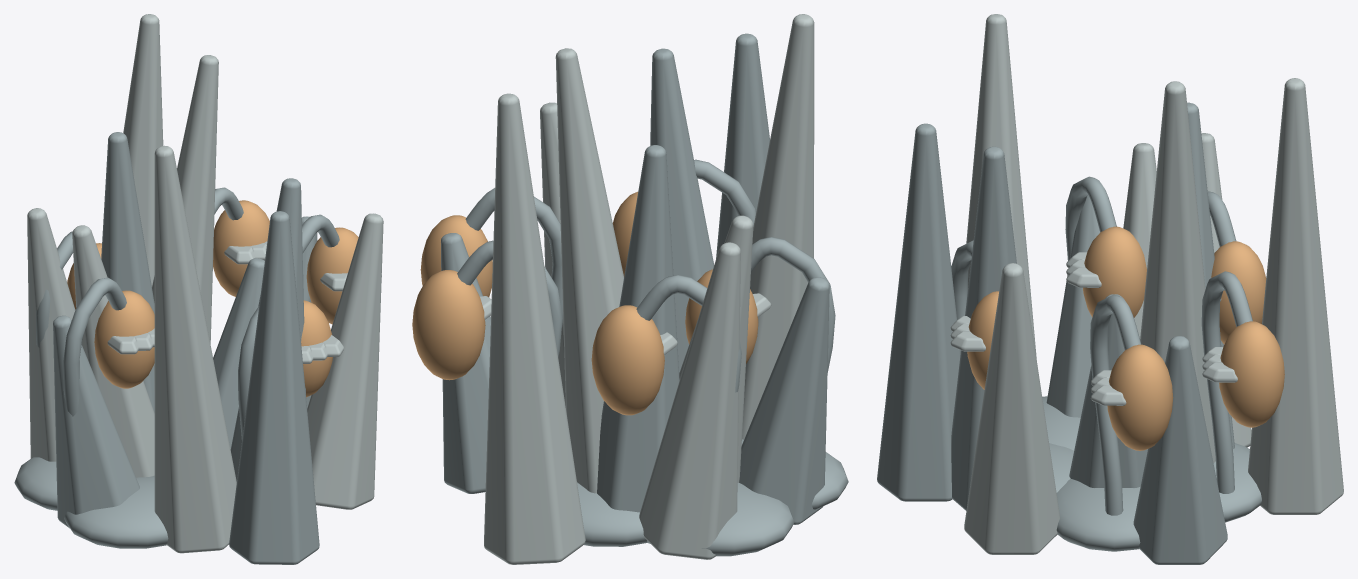
The model's file is bio_crystal_fan_18_near.glb.
3 renders of one model, left to right at view 1: azimuth 30°, elevation 25°; view 2: azimuth 150°, elevation 25°; view 3: azimuth 270°, elevation 25°, orthographic. The views are drawn at different scales.
Parts seen in each view (by area): view 1: Reflecting mineral prism.007, Reflecting mineral prism.002, Reflecting mineral prism.005, Reflecting mineral prism.004, Reflecting mineral prism.003, Reflecting mineral prism.001, Reflecting mineral prism.011, Reflecting mineral prism.009, Mineral substrate, Reflecting mineral prism.006, Pendant spore capsule.004, Reflecting mineral prism (+13 smaller); view 2: Reflecting mineral prism.011, Reflecting mineral prism.001, Reflecting mineral prism.003, Reflecting mineral prism.007, Reflecting mineral prism.004, Reflecting mineral prism.006, Reflecting mineral prism.010, Mineral substrate, Reflecting mineral prism.008, Pendant spore capsule.003, Pendant spore capsule.001, Reflecting mineral prism.002 (+10 smaller); view 3: Reflecting mineral prism.011, Reflecting mineral prism.002, Reflecting mineral prism.005, Reflecting mineral prism.003, Reflecting mineral prism.008, Reflecting mineral prism.010, Mineral substrate, Reflecting mineral prism.007, Pendant spore capsule.003, Pendant spore capsule, Reflecting mineral prism.004, Arched fruit stem.003 (+15 smaller).
Part boxes in pixels (x1,y1,x2,y2): Reflecting mineral prism.007: (154,145,236,553); Reflecting mineral prism.002: (229,211,319,564); Reflecting mineral prism.005: (307,213,383,509); Reflecting mineral prism.004: (53,315,139,528); Reflecting mineral prism.003: (152,55,218,391); Reflecting mineral prism.001: (27,208,75,461); Reflecting mineral prism.011: (123,14,163,286); Reflecting mineral prism.009: (72,225,154,477); Mineral substrate: (14,457,168,548); Reflecting mineral prism.006: (101,132,154,412); Pendant spore capsule.004: (94,290,154,388); Reflecting mineral prism: (213,258,264,448); Reflecting mineral prism.011: (484,93,585,564); Reflecting mineral prism.001: (639,242,740,559); Reflecting mineral prism.003: (555,48,623,493); Reflecting mineral prism.007: (742,14,814,439); Reflecting mineral prism.004: (739,277,829,524); Reflecting mineral prism.006: (597,145,679,512); Reflecting mineral prism.010: (650,48,714,372); Mineral substrate: (577,439,848,556); Reflecting mineral prism.008: (441,233,490,493); Pendant spore capsule.003: (412,270,485,380); Pendant spore capsule.001: (591,305,664,415); Reflecting mineral prism.002: (716,33,769,258); Reflecting mineral prism.011: (1248,78,1343,514); Reflecting mineral prism.002: (877,123,960,501); Reflecting mineral prism.005: (964,263,1059,554); Reflecting mineral prism.003: (1140,81,1215,462); Reflecting mineral prism.008: (1133,336,1227,564); Reflecting mineral prism.010: (951,146,1016,510); Mineral substrate: (1042,396,1261,551); Reflecting mineral prism.007: (966,14,1036,357); Pendant spore capsule.003: (1219,321,1284,427); Pendant spore capsule: (1107,344,1173,450); Reflecting mineral prism.004: (1046,195,1100,417); Arched fruit stem.003: (1201,271,1252,493).
Size of the model in its own units: 1.64 by 1.91 by 1.83.
